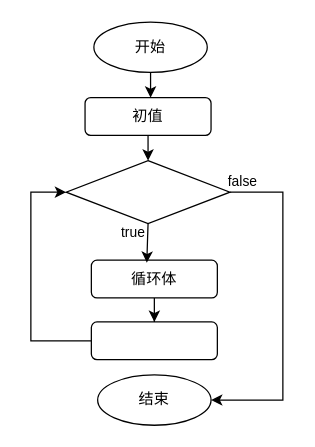
Image size: 315x447. Some labels were removed from this diagram. Here are the shapes that lost their labels. From the top down, the centre of each, then its label:
[147,191]: 循环继续条件
[153,340]: 步长
